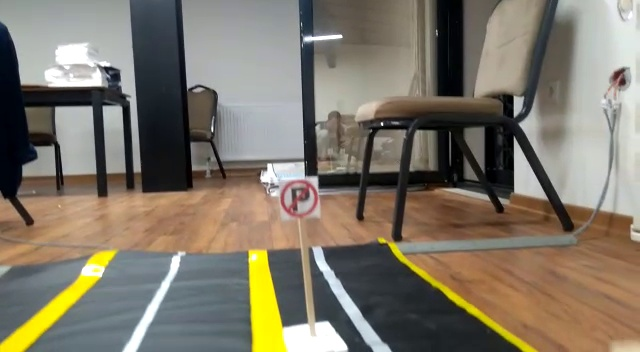park_yapilmaz: (280, 177, 322, 219)
